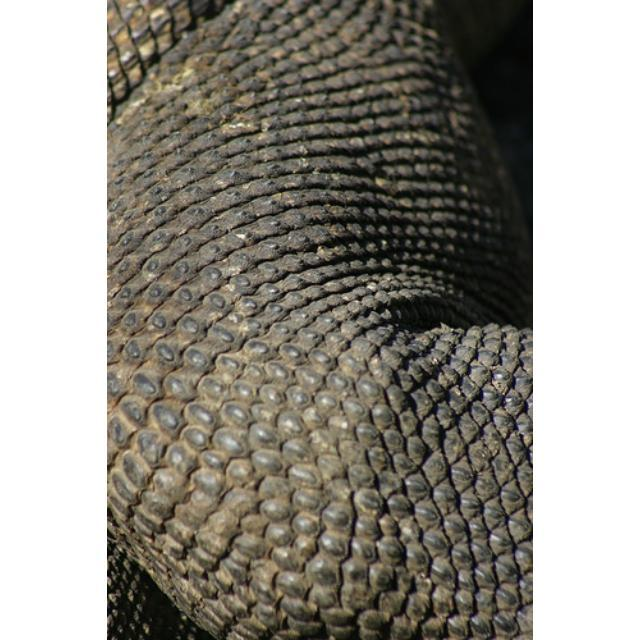KomodoDragon: (115, 8, 524, 632)
